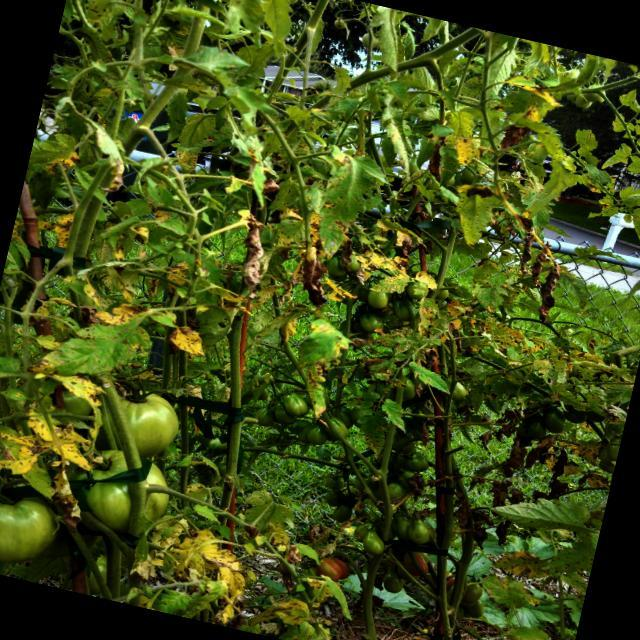Tomato Septoria spot leaf: (26, 283, 160, 397), (303, 158, 379, 272), (290, 312, 360, 382), (442, 177, 500, 255), (23, 126, 86, 195), (244, 588, 314, 640), (349, 403, 393, 458), (398, 358, 457, 396), (176, 108, 218, 154), (429, 140, 466, 192), (164, 321, 212, 359), (442, 106, 479, 150), (410, 296, 442, 344), (376, 395, 414, 435), (366, 266, 411, 299), (266, 176, 303, 216), (336, 383, 382, 414), (248, 278, 282, 316), (412, 136, 438, 172), (0, 375, 14, 436), (152, 214, 188, 236)
